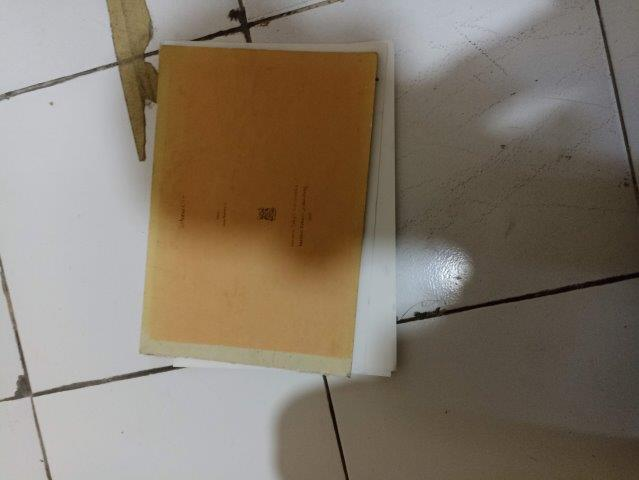kertas: (138, 40, 397, 377)
